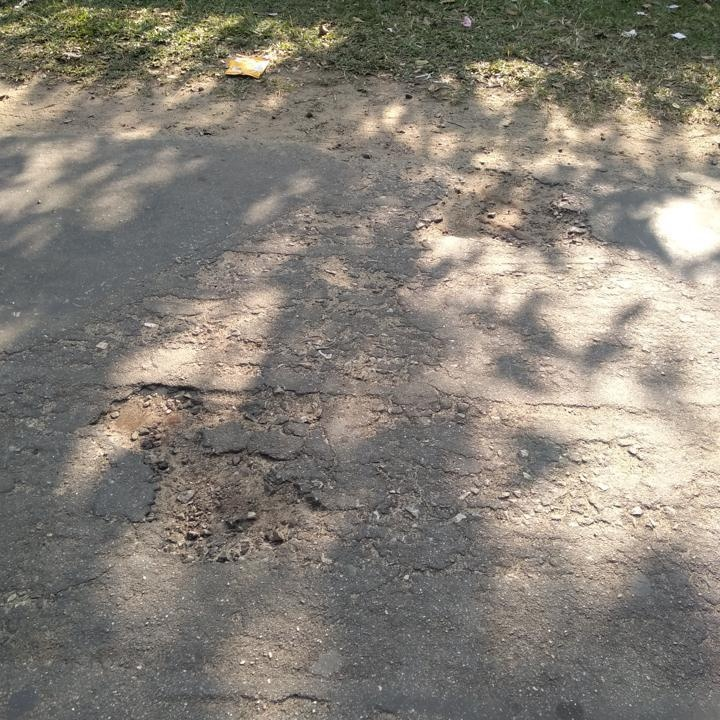pothole: (139, 443, 324, 566), (408, 162, 601, 249), (89, 376, 211, 450)
